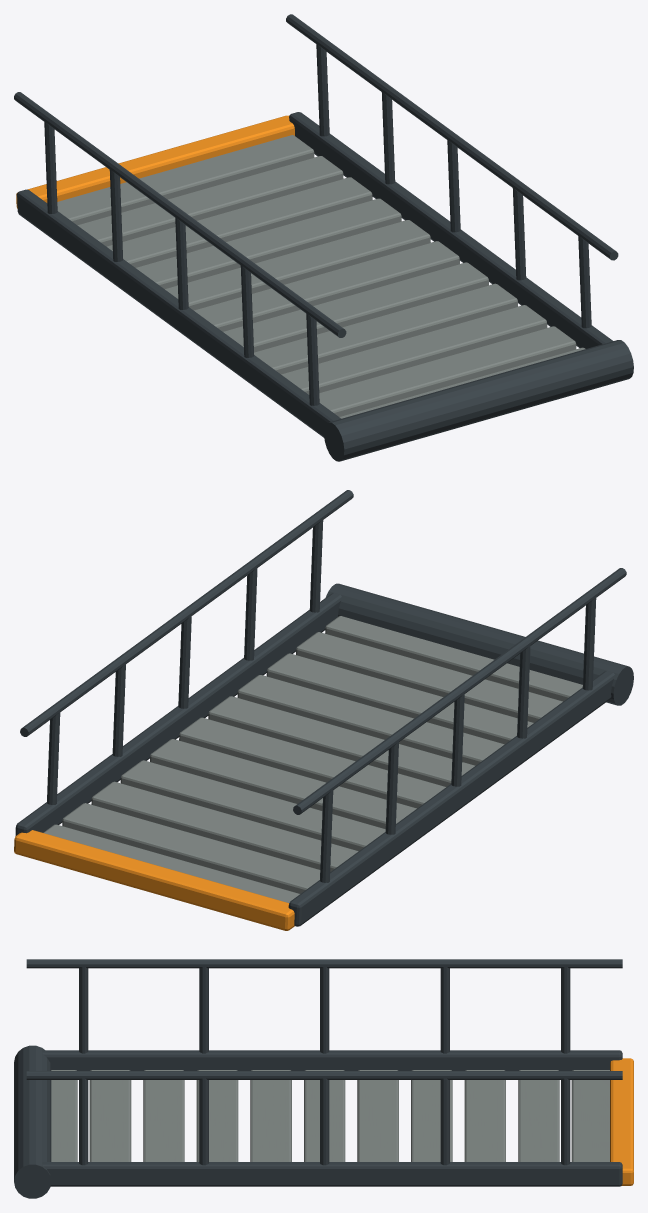
Rendered from pirate-gangway.glb.
3 renders of one model, top to bottom at view 1: azimuth 30°, elevation 25°; view 2: azimuth 150°, elevation 25°; view 3: azimuth 270°, elevation 25°, orthographic. The views are drawn at different scales.
Visible parts, largest first — view 1: release_hinge, Main truss -1.08, Main truss 1.08, Perforated tread 2, Perforated tread 3, Perforated tread 4, Perforated tread 8, Perforated tread 6, Perforated tread 10, Perforated tread 9, Perforated tread 7, Perforated tread 5 (+15 smaller); view 2: Main truss -1.08, Main truss 1.08, release_hinge, Hazard tail, Perforated tread 10, Perforated tread 9, Perforated tread 8, Perforated tread 6, Perforated tread 4, Perforated tread 2, Perforated tread 3, Perforated tread 5 (+15 smaller); view 3: Main truss 1.08, Main truss -1.08, Handrail -1.08, Handrail 1.08, release_hinge, Perforated tread 2, Perforated tread 10, Perforated tread 3, Perforated tread 5, Perforated tread 7, Perforated tread 9, Perforated tread 11 (+15 smaller).
Part boxes in pixels (x1=…): release_hinge: x1=324, y1=340, x2=633, y2=461; Main truss -1.08: x1=17, y1=189, x2=340, y2=437; Main truss 1.08: x1=289, y1=112, x2=613, y2=348; Perforated tread 2: x1=319, y1=326, x2=576, y2=416; Perforated tread 3: x1=281, y1=305, x2=547, y2=394; Perforated tread 4: x1=254, y1=283, x2=517, y2=374; Perforated tread 8: x1=135, y1=198, x2=401, y2=288; Perforated tread 6: x1=194, y1=241, x2=459, y2=331; Perforated tread 10: x1=77, y1=156, x2=343, y2=246; Perforated tread 9: x1=106, y1=177, x2=372, y2=267; Perforated tread 7: x1=164, y1=220, x2=430, y2=310; Perforated tread 5: x1=223, y1=262, x2=488, y2=352; Main truss -1.08: x1=288, y1=671, x2=614, y2=926; Main truss 1.08: x1=15, y1=593, x2=341, y2=836; release_hinge: x1=325, y1=583, x2=633, y2=705; Hazard tail: x1=14, y1=830, x2=294, y2=930; Perforated tread 10: x1=62, y1=803, x2=320, y2=893; Perforated tread 9: x1=91, y1=781, x2=358, y2=871; Perforated tread 8: x1=120, y1=760, x2=385, y2=851; Perforated tread 6: x1=179, y1=717, x2=445, y2=808; Perforated tread 4: x1=237, y1=675, x2=504, y2=765; Perforated tread 2: x1=296, y1=632, x2=562, y2=722; Perforated tread 3: x1=266, y1=653, x2=533, y2=744; Perforated tread 5: x1=208, y1=696, x2=475, y2=786; Main truss 1.08: x1=42, y1=1162, x2=622, y2=1186; Main truss -1.08: x1=42, y1=1050, x2=622, y2=1070; Handrail -1.08: x1=26, y1=959, x2=622, y2=968; Handrail 1.08: x1=26, y1=1071, x2=622, y2=1079; release_hinge: x1=14, y1=1045, x2=51, y2=1198; Perforated tread 2: x1=89, y1=1070, x2=131, y2=1161; Perforated tread 10: x1=518, y1=1070, x2=559, y2=1161; Perforated tread 3: x1=143, y1=1070, x2=184, y2=1161; Perforated tread 5: x1=250, y1=1070, x2=291, y2=1161; Perforated tread 7: x1=357, y1=1070, x2=398, y2=1161; Perforated tread 9: x1=464, y1=1070, x2=505, y2=1161; Perforated tread 11: x1=571, y1=1070, x2=609, y2=1161.
Size of the model in its own units: 2.31 by 1.09 by 4.63.
